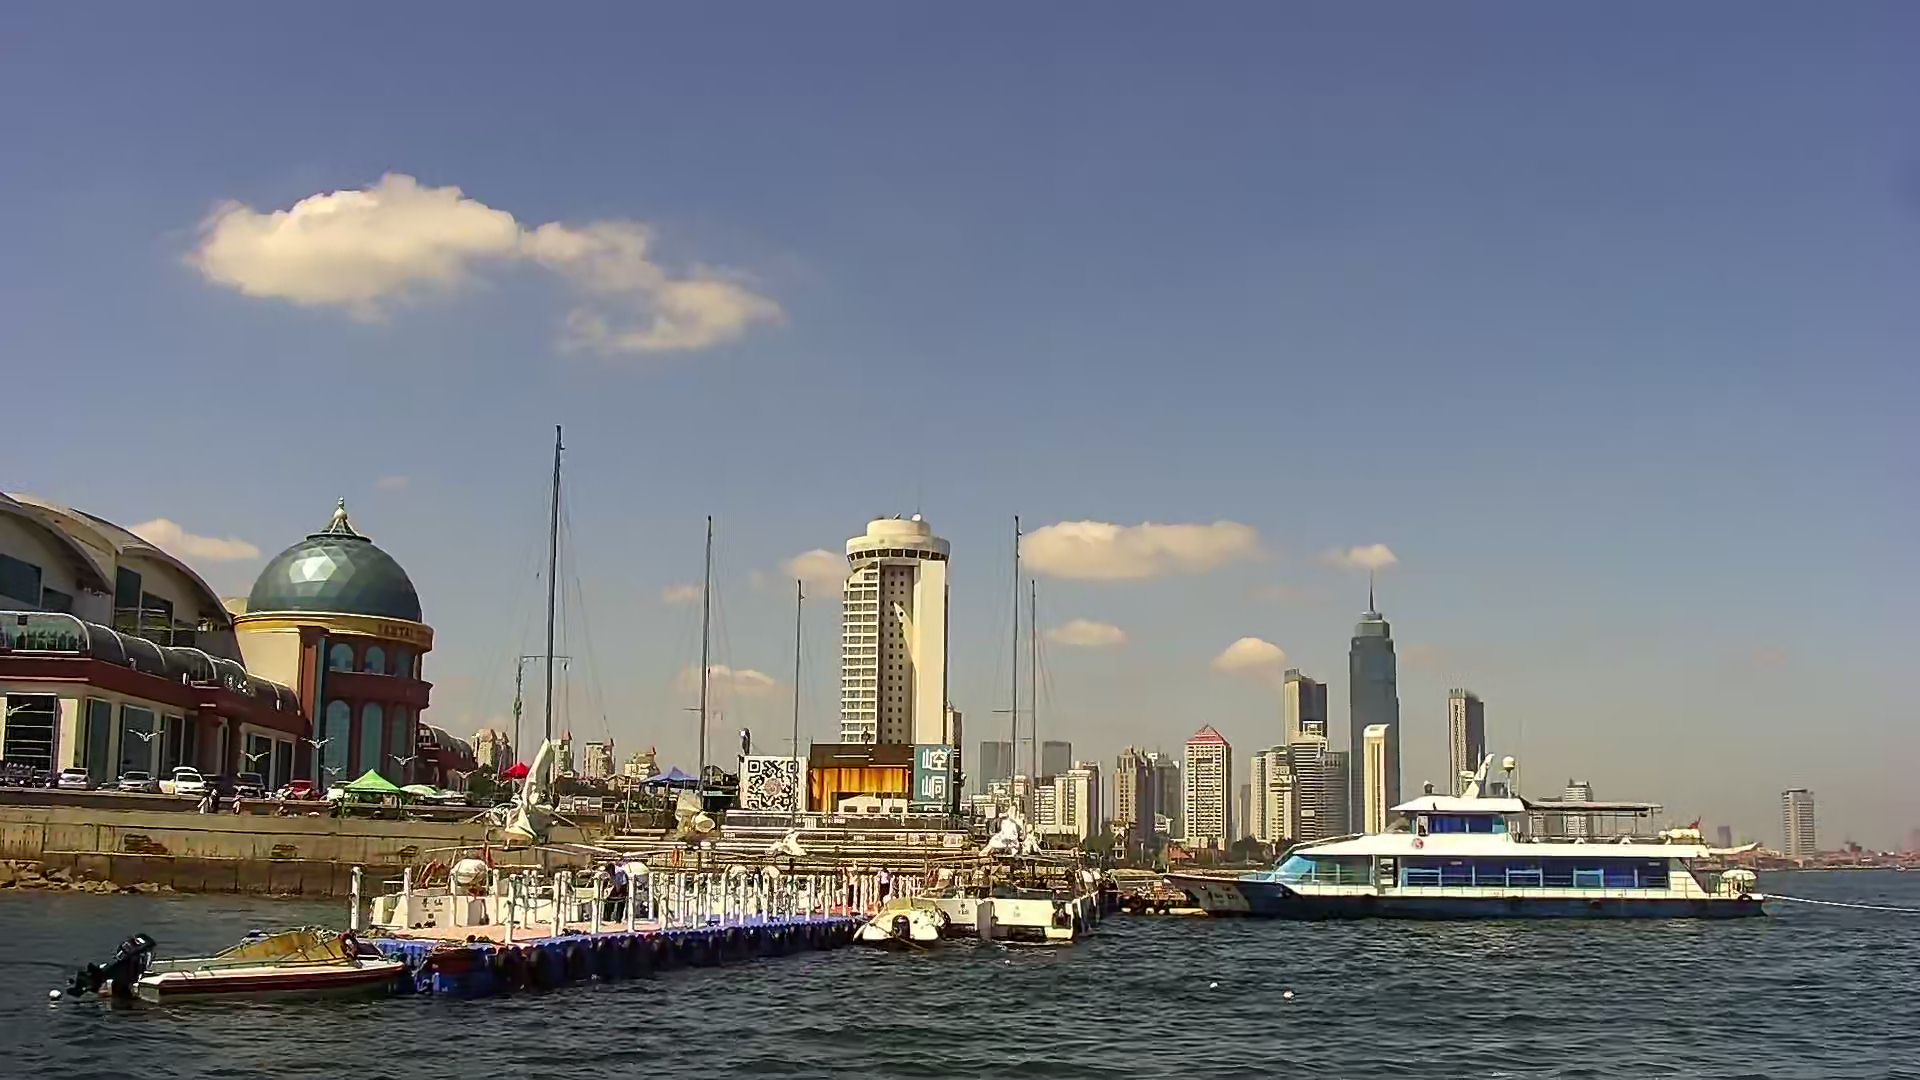harbor: (119, 819, 1221, 975)
ship: (1172, 752, 1785, 923)
